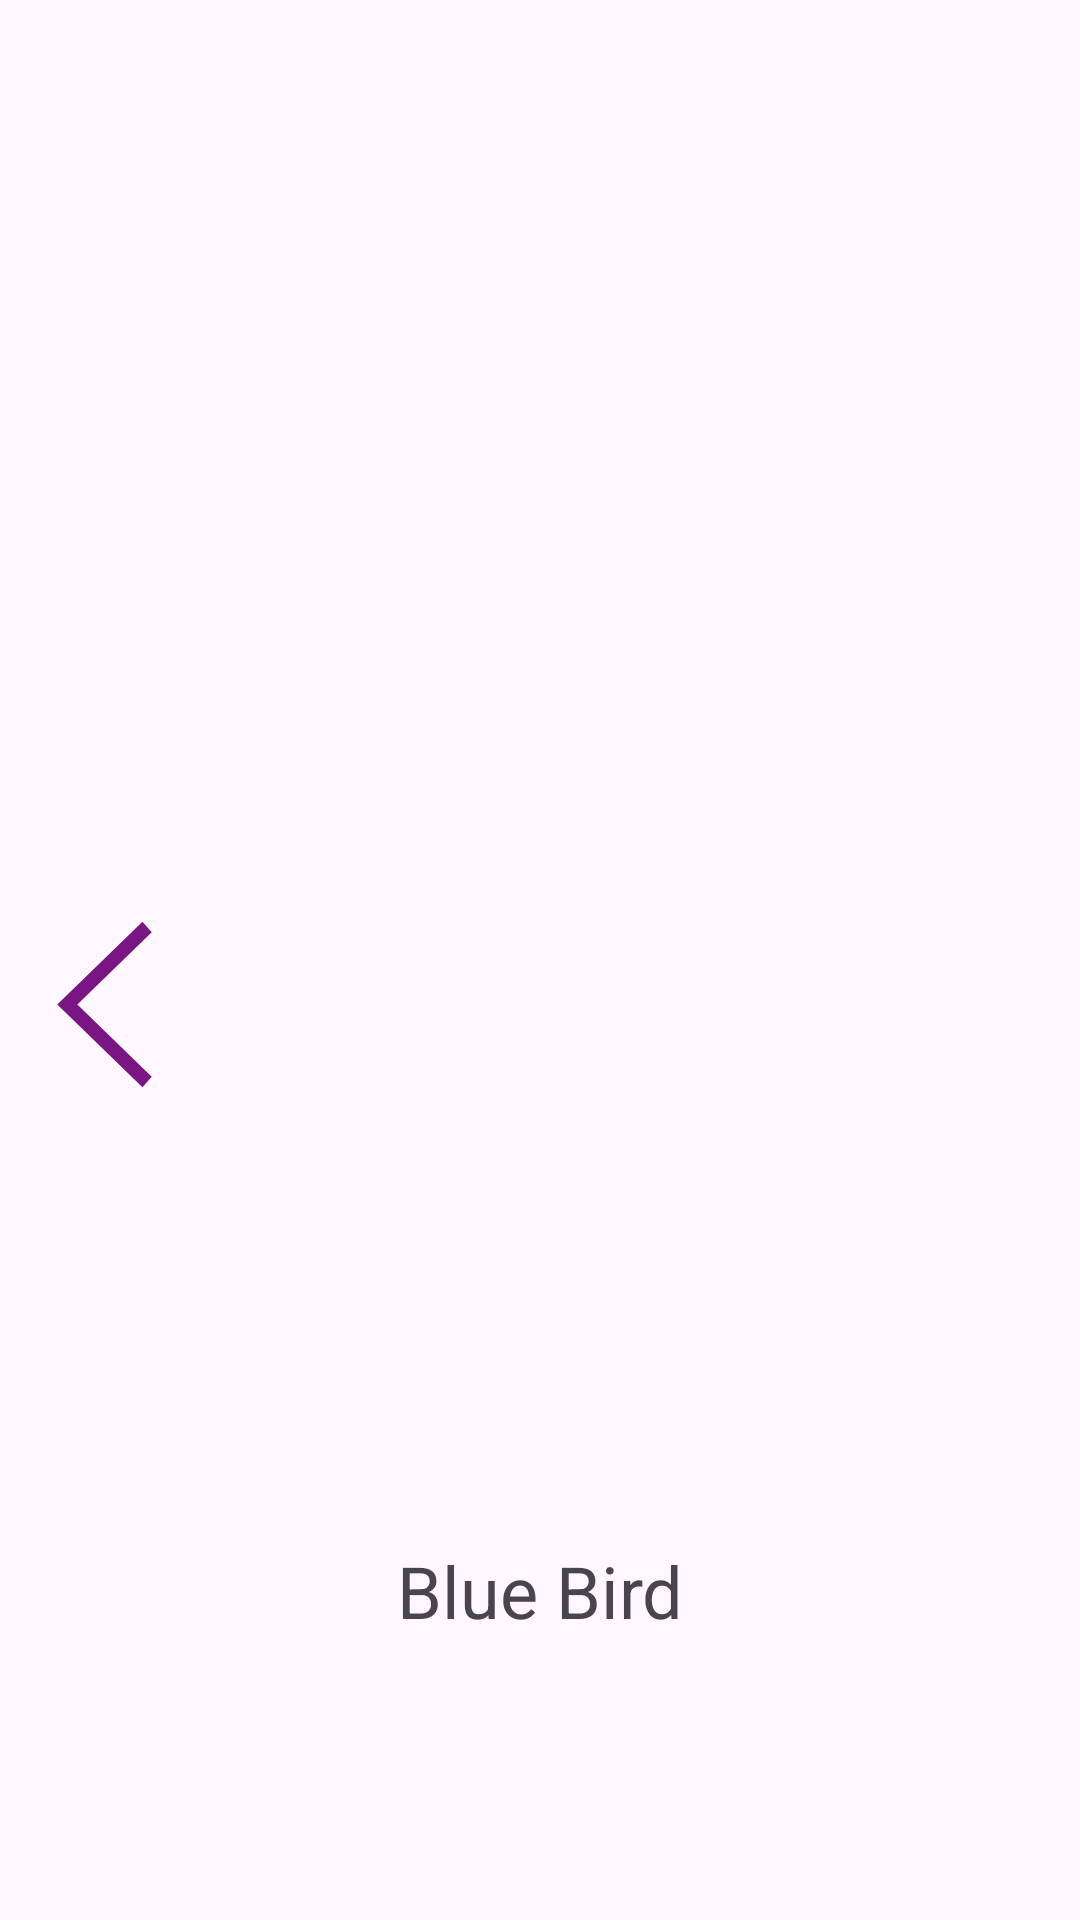

Where icons sit on this 1080x1920 app screen, as (x1=x1, y1=y1, x2=x2, y2=y2):
left arrow backup: (x1=57, y1=922, x2=152, y2=1087)
